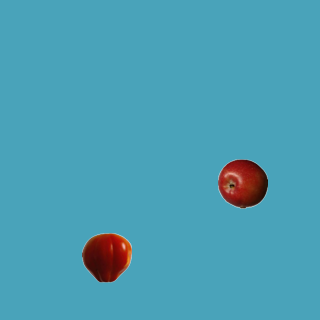Apple Braeburn: (217, 158, 267, 208)
Tomato 1: (81, 232, 131, 282)
